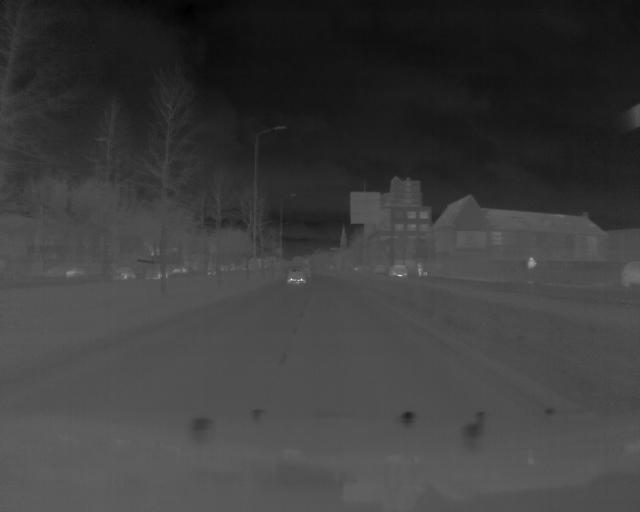car: (286, 263, 309, 287), (386, 264, 409, 280)
